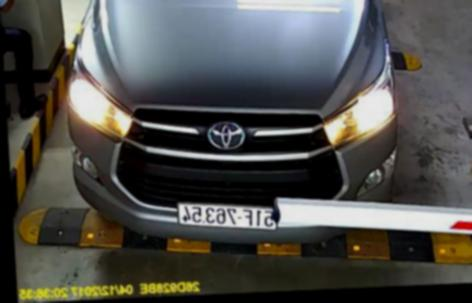License_Plate: (176, 203, 282, 231)
